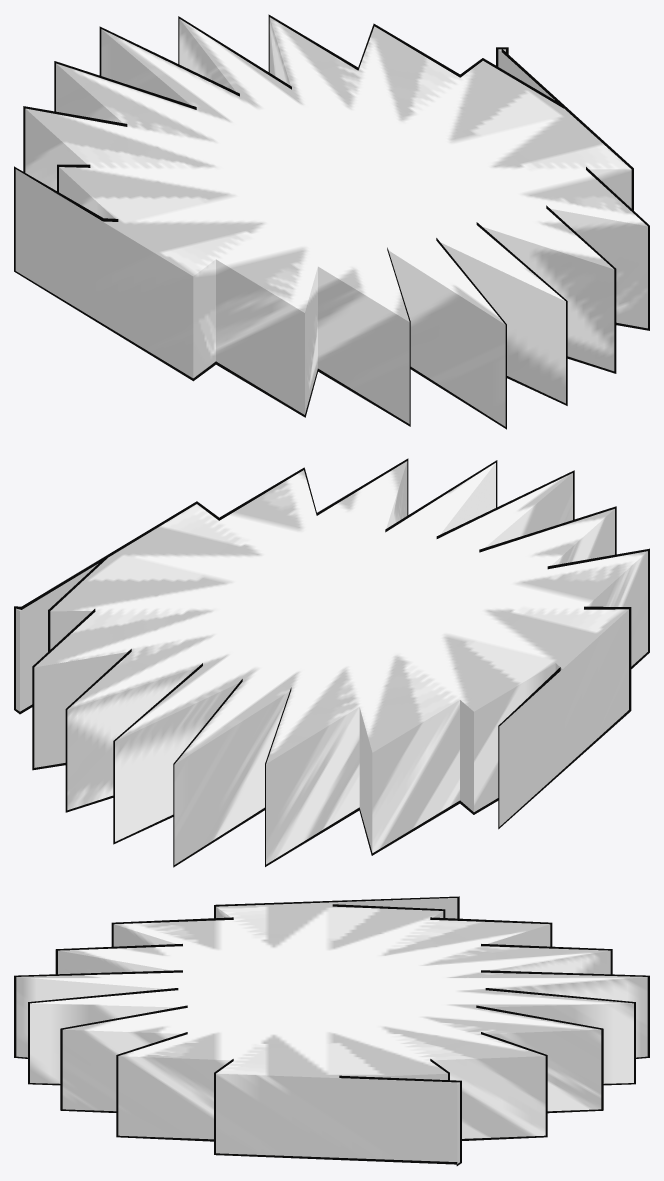
Rendered from Building_SpikecoreFloorStar_Medium_Things_Building_FloorCoverings_SpikecoreStarMedium_SpikecoreStarMediumB.glb.
The picture shows the model from 3 angles, top to bottom: view 1: azimuth 30°, elevation 25°; view 2: azimuth 150°, elevation 25°; view 3: azimuth 270°, elevation 25°; orthographic projection. The views are drawn at different scales.
Parts seen in each view (by area): view 1: Body, Outline; view 2: Body, Outline; view 3: Body, Outline.
Part boxes in pixels (x1,y1,x2,y2): Body: (15, 17, 647, 426); Outline: (14, 14, 649, 429); Body: (16, 461, 647, 864); Outline: (14, 458, 649, 867); Body: (16, 898, 647, 1163); Outline: (14, 896, 649, 1165).
Bounding box in the file's own units: 1.34 × 0.2796 × 1.91.
Materials: 2 (1 with a texture image).
